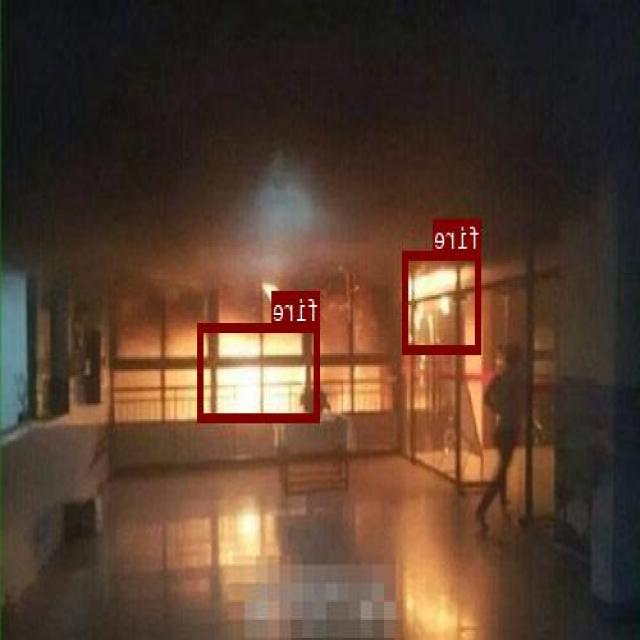fire: (199, 322, 321, 420), (403, 251, 482, 352)
